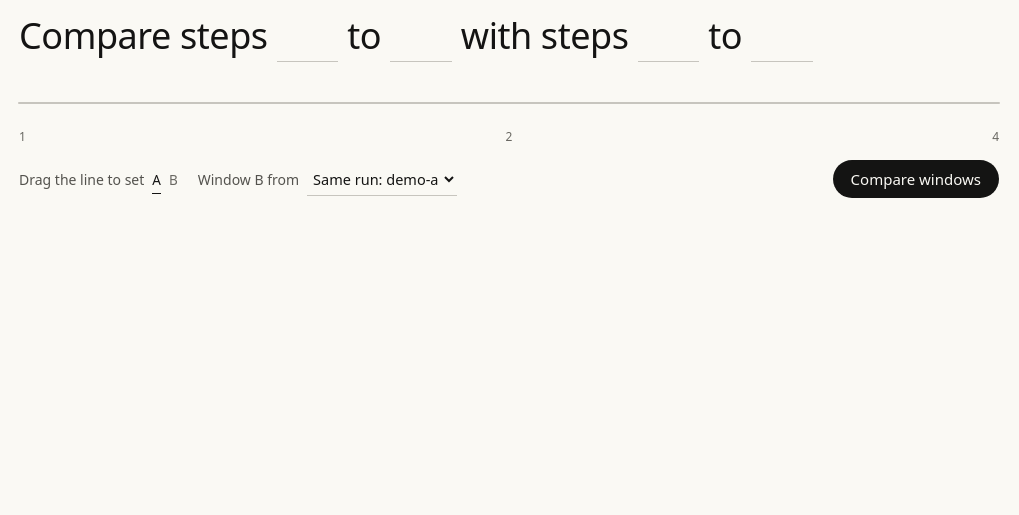
Scenario: submitting windows › retries after a failed status poll
The image size is (1019, 515).
Type "1" into the field named "A start" at coordinates (308, 37), box [277,12,338,62]
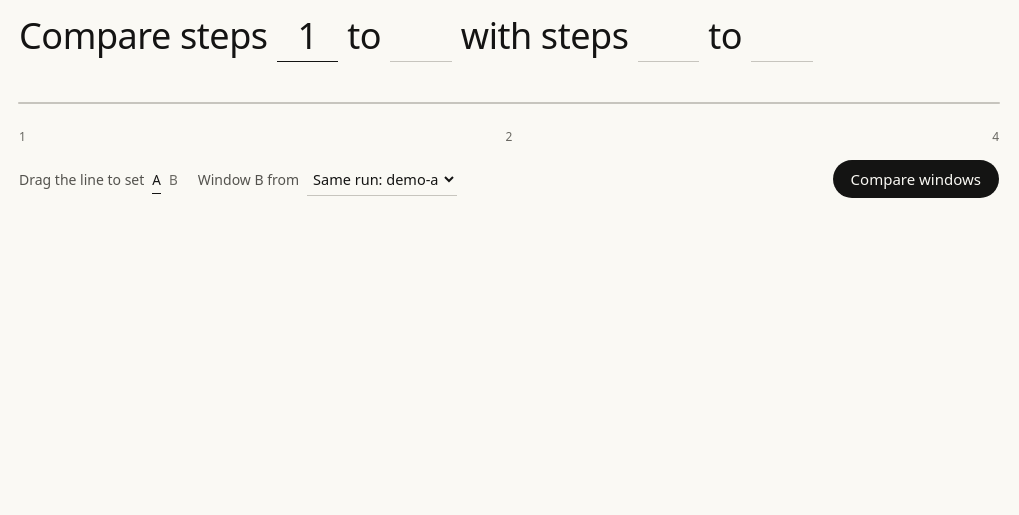
Type "2" into the field named "A end" at coordinates (421, 37), box [390,12,452,62]
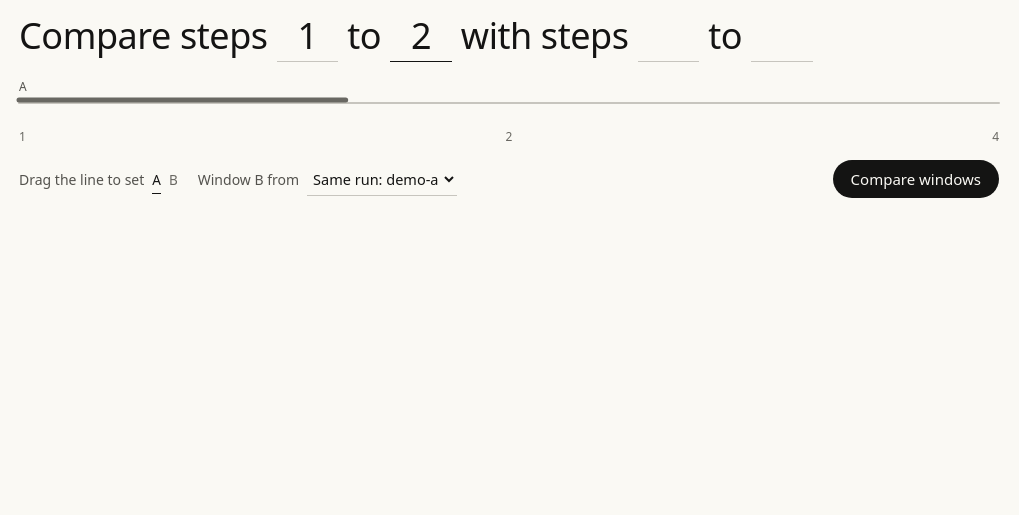
Type "3" into the field named "B start" at coordinates (668, 37), box [638,12,699,62]
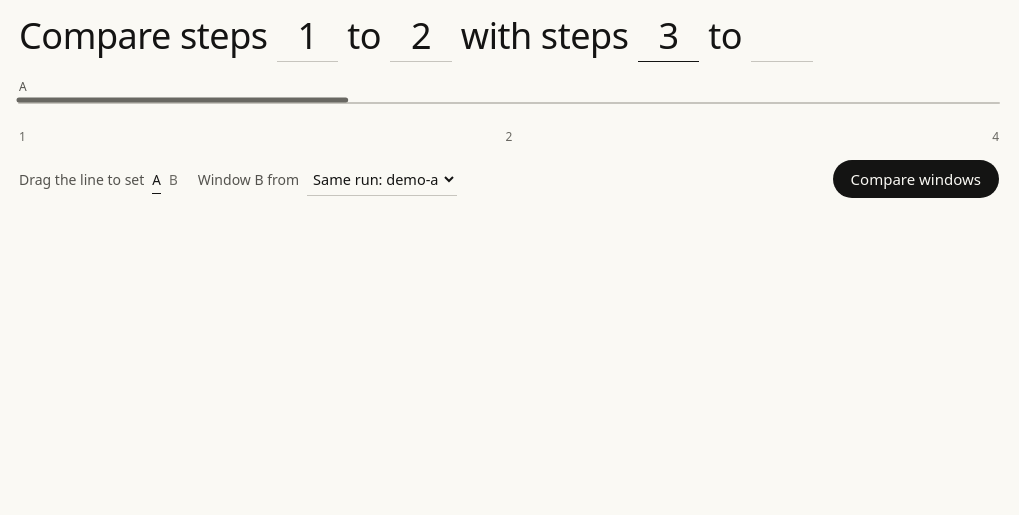
Type "5" into the field named "B end" at coordinates (782, 37), box [751,12,813,62]
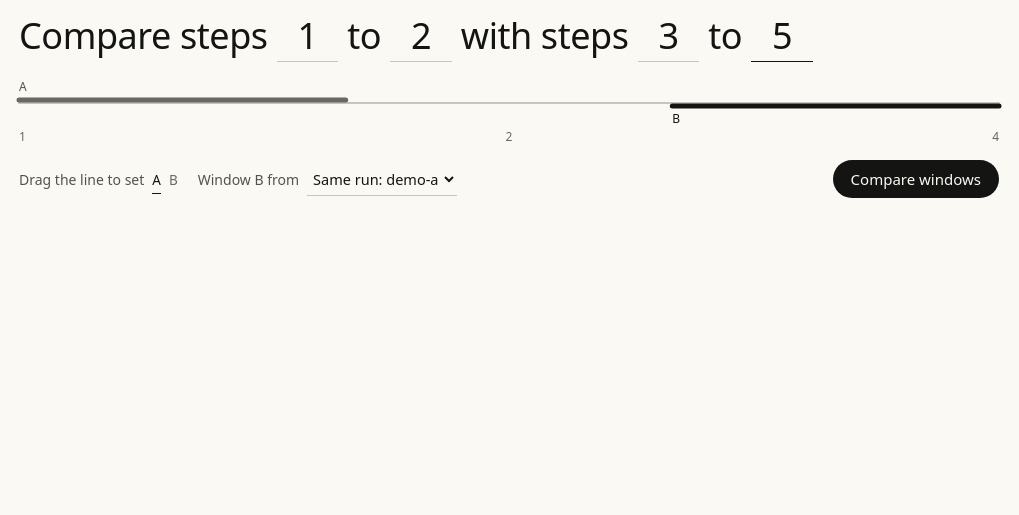
Click the button "Compare windows" at coordinates (916, 179), box [833,160,999,198]
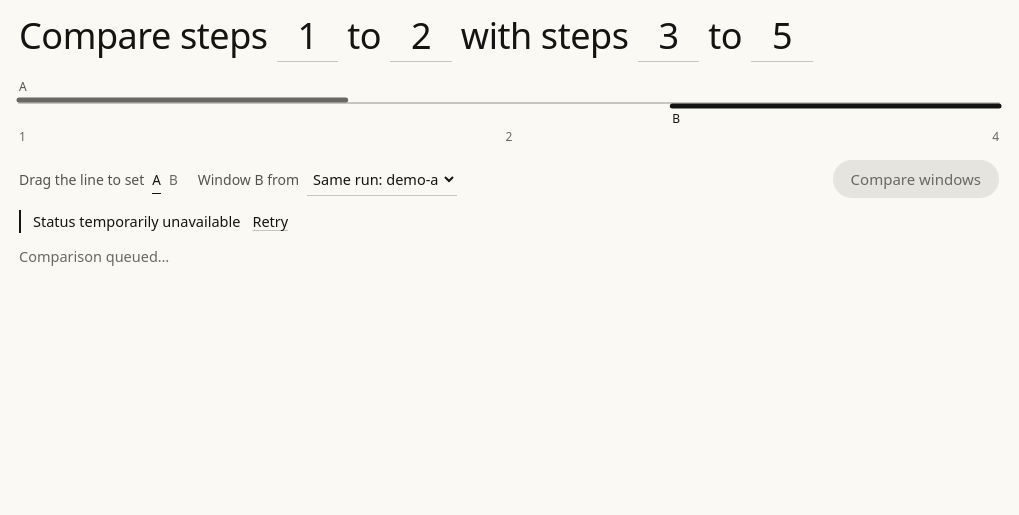
Expected: the heading "What changed" is not shown
Expected: the message "Comparison queued…" is shown, [19,246,169,266]
Expected: the message "Status temporarily unavailable Retry" is shown, [19,210,999,233]
Click the button "Retry" at coordinates (270, 221), box [252,210,288,233]
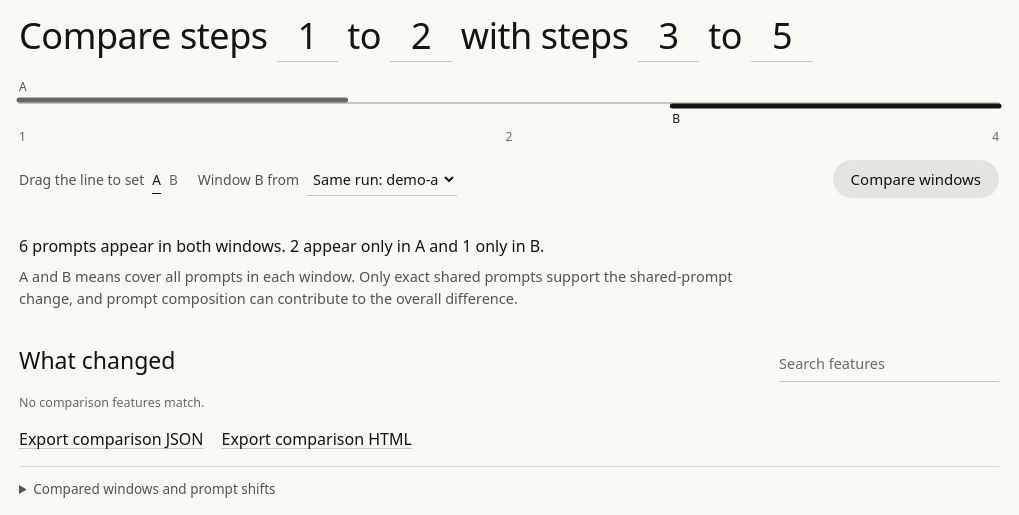
Expected: the heading "What changed" is shown, [19,346,175,376]
Expected: the message "Status temporarily unavailable Retry" is gone
